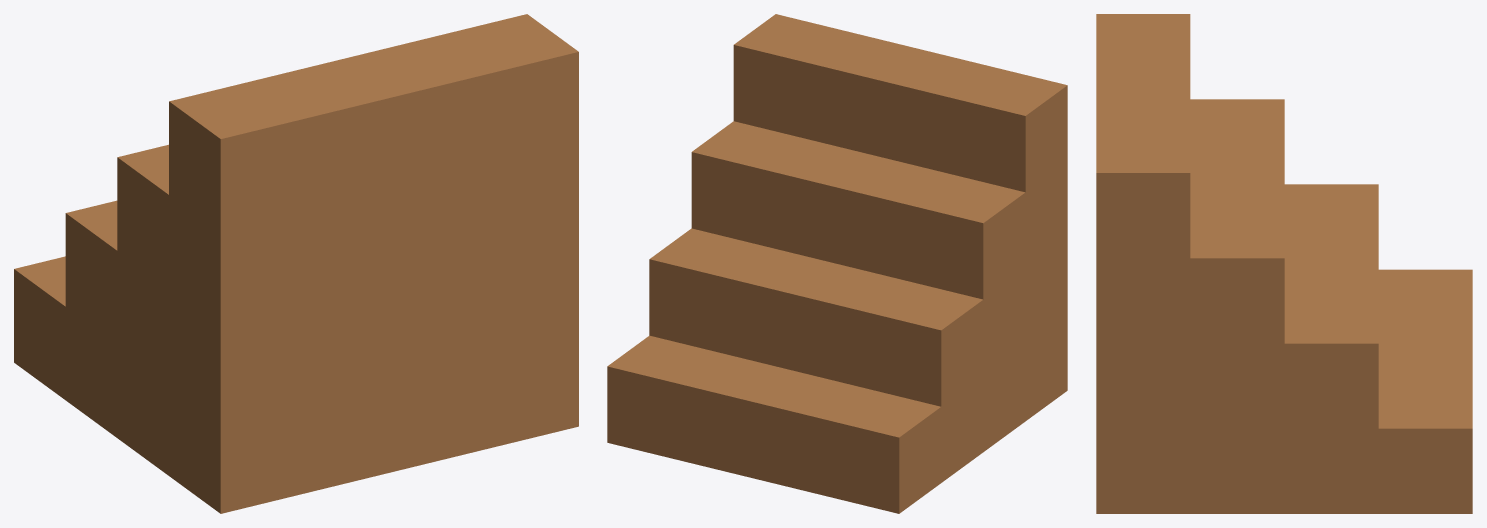
File: stairs.fbx
The picture shows the model from 3 angles, left to right: view 1: azimuth 30°, elevation 25°; view 2: azimuth 150°, elevation 25°; view 3: azimuth 270°, elevation 25°; orthographic projection. The views are drawn at different scales.
Parts seen in each view (by area): view 1: Cube; view 2: Cube; view 3: Cube.
Boxes of the visible parts, box(x1,y1,x2,y2) form: Cube: box(14, 14, 578, 513); Cube: box(607, 14, 1067, 513); Cube: box(1096, 14, 1472, 513).
Bounding box in the file's own units: 100 × 100 × 100.
